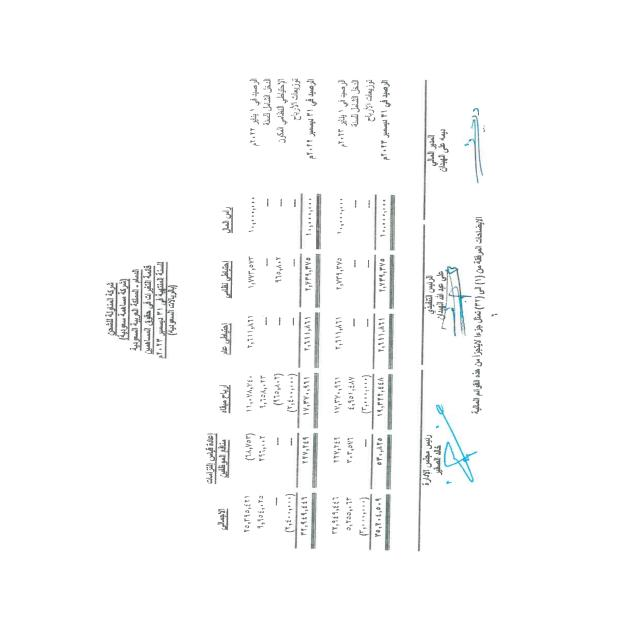financial_sheets: (145, 264, 152, 355)
table: (220, 71, 409, 576)
